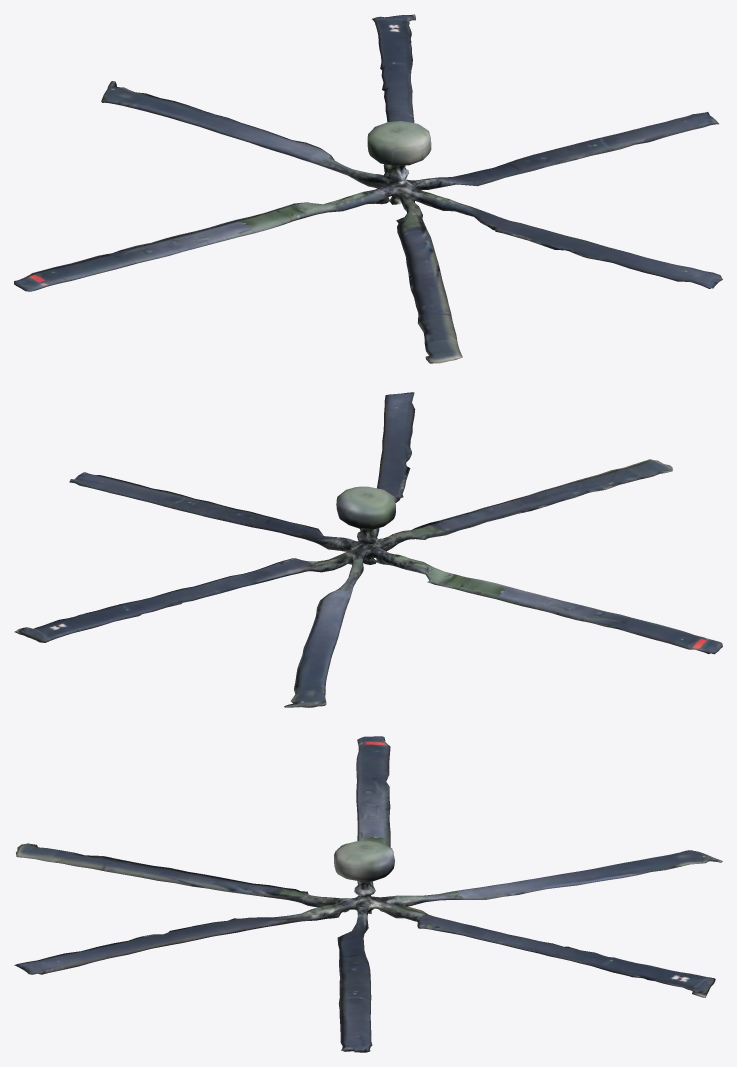
The model's file is helicopter_blades.glb.
3 renders of one model, top to bottom at view 1: azimuth 30°, elevation 25°; view 2: azimuth 150°, elevation 25°; view 3: azimuth 270°, elevation 25°, orthographic. The views are drawn at different scales.
Visible parts, largest first — view 1: Mesh_0.001; view 2: Mesh_0.001; view 3: Mesh_0.001.
Boxes of the visible parts, x1=… form: Mesh_0.001: x1=14, y1=14, x2=722, y2=363; Mesh_0.001: x1=14, y1=392, x2=722, y2=707; Mesh_0.001: x1=14, y1=736, x2=722, y2=1052.
Bounding box in the file's own units: 11.15 × 1.13 × 10.37.
Materials: 1 (1 with a texture image).
